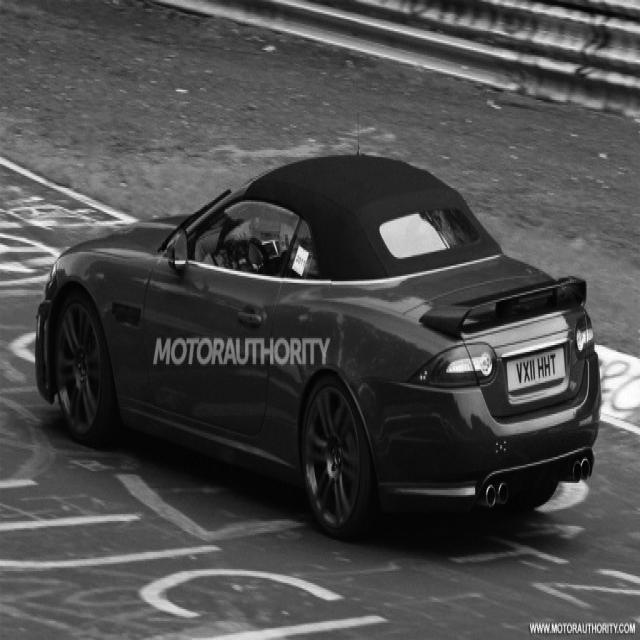car: (34, 148, 602, 540)
plat_license: (505, 345, 566, 392)
